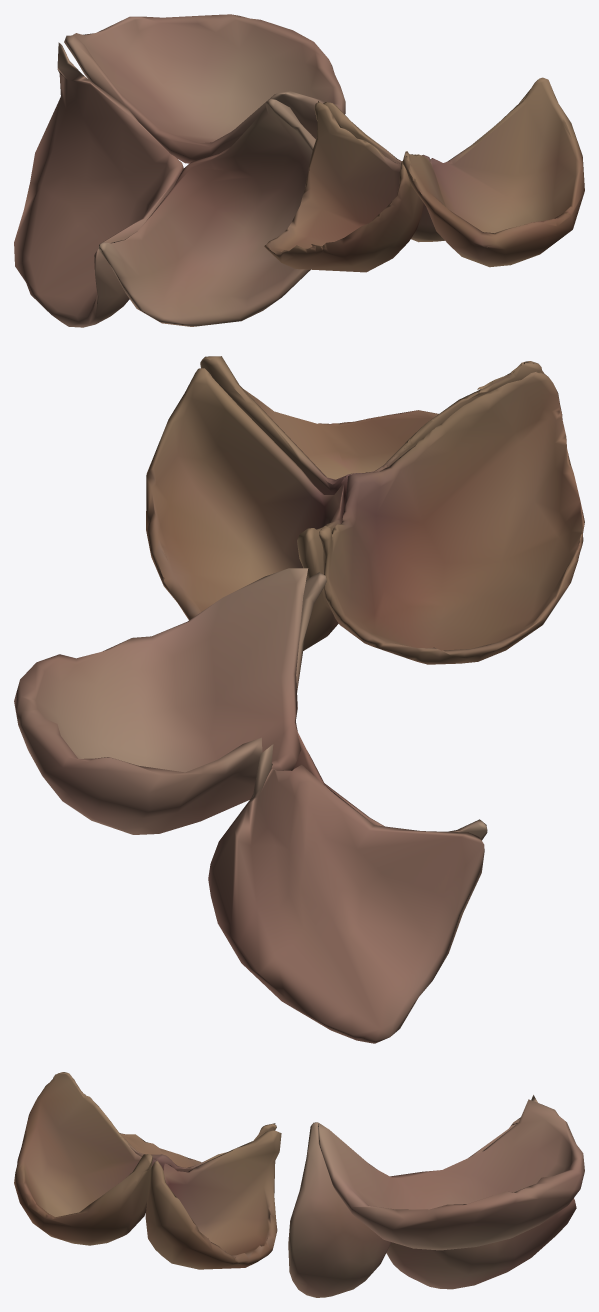
Rendered from valves.glb.
The picture shows the model from 3 angles, top to bottom: view 1: azimuth 30°, elevation 25°; view 2: azimuth 150°, elevation 25°; view 3: azimuth 270°, elevation 25°; orthographic projection. The views are drawn at different scales.
Parts seen in each view (by area): view 1: Valves; view 2: Valves; view 3: Valves.
Boxes of the visible parts, x1,y1,x2,y2 form: Valves: [14, 14, 584, 327]; Valves: [14, 356, 584, 1043]; Valves: [14, 1072, 584, 1297].
Size of the model in its own units: 0.8646 by 0.7196 by 1.4.
